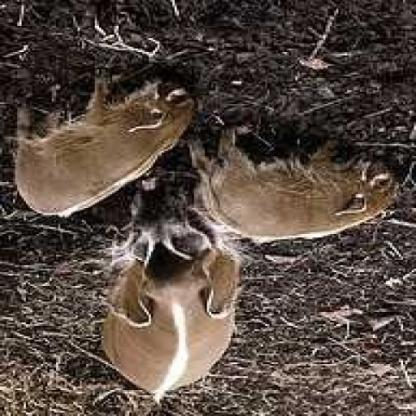boar: (0, 39, 184, 249), (184, 111, 409, 235), (115, 222, 228, 408)
